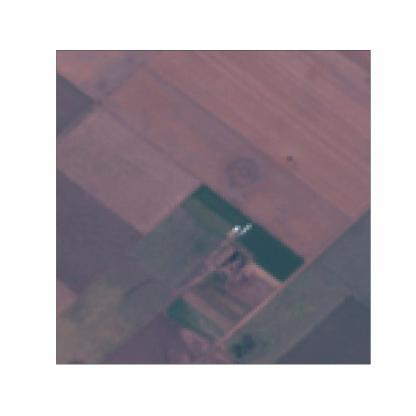silobolsa: (238, 223, 253, 235)
